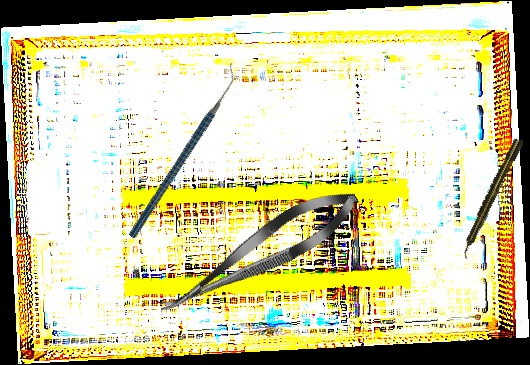Chopper: (84, 61, 281, 240)
Handpiece: (456, 136, 526, 260)
Micro Scissor: (149, 176, 368, 330)
